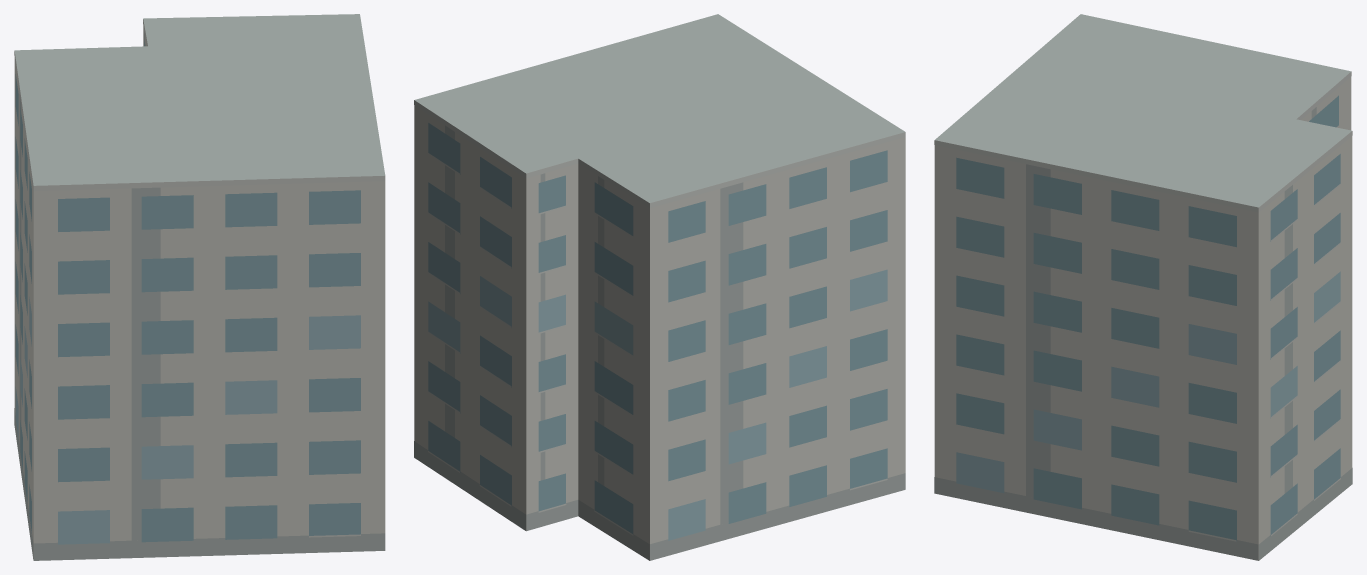
Rendered from survey-upis-32886217.glb.
3 renders of one model, left to right at view 1: azimuth 30°, elevation 25°; view 2: azimuth 150°, elevation 25°; view 3: azimuth 270°, elevation 25°, orthographic. The views are drawn at different scales.
Parts seen in each view (by area): view 1: survey-upis-32886217.tmp; view 2: survey-upis-32886217.tmp; view 3: survey-upis-32886217.tmp.
Part boxes in pixels (<box>): survey-upis-32886217.tmp: <box>14,14,385,560</box>; survey-upis-32886217.tmp: <box>414,14,905,560</box>; survey-upis-32886217.tmp: <box>934,14,1352,560</box>.
Size of the model in its own units: 20.09 by 17.1 by 18.34.
